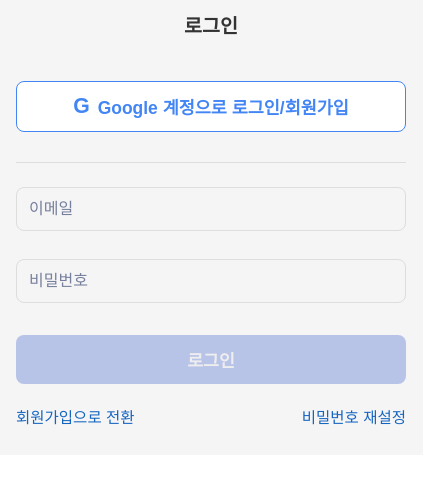
Test: AuthForm › 로그인 성공
Type "test@test.com" into the field with placeholder "이메일".
click(211, 208); type("test@test.com")  # box [16,186,406,230]
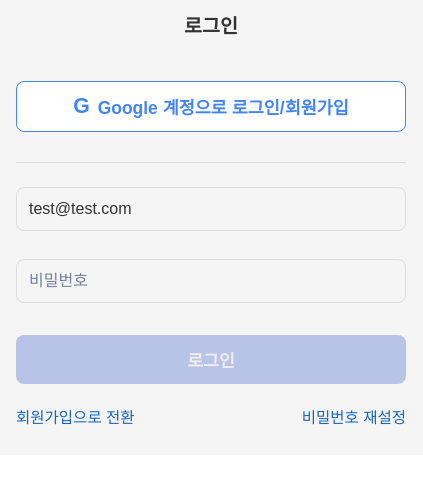
Type "Abcdefg1!" into the password field with placeholder "비밀번호".
click(211, 280); type("Abcdefg1!")  # box [16,258,406,302]
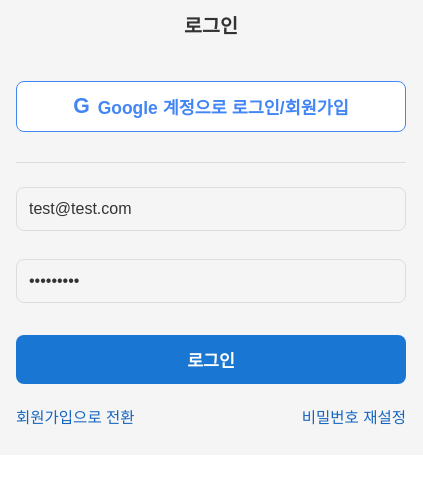
Click the button "로그인".
click(211, 359)  # box [16,334,406,384]
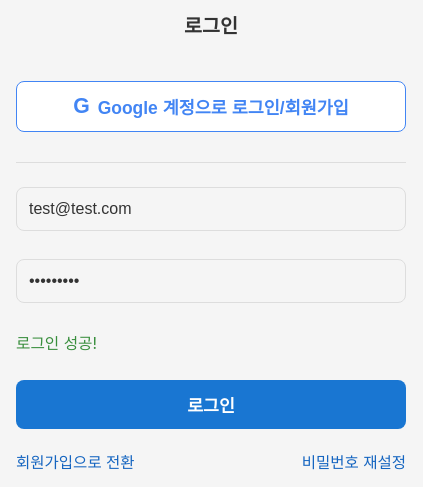
expect the text "로그인 성공!" is shown: met, box [16,334,97,352]
